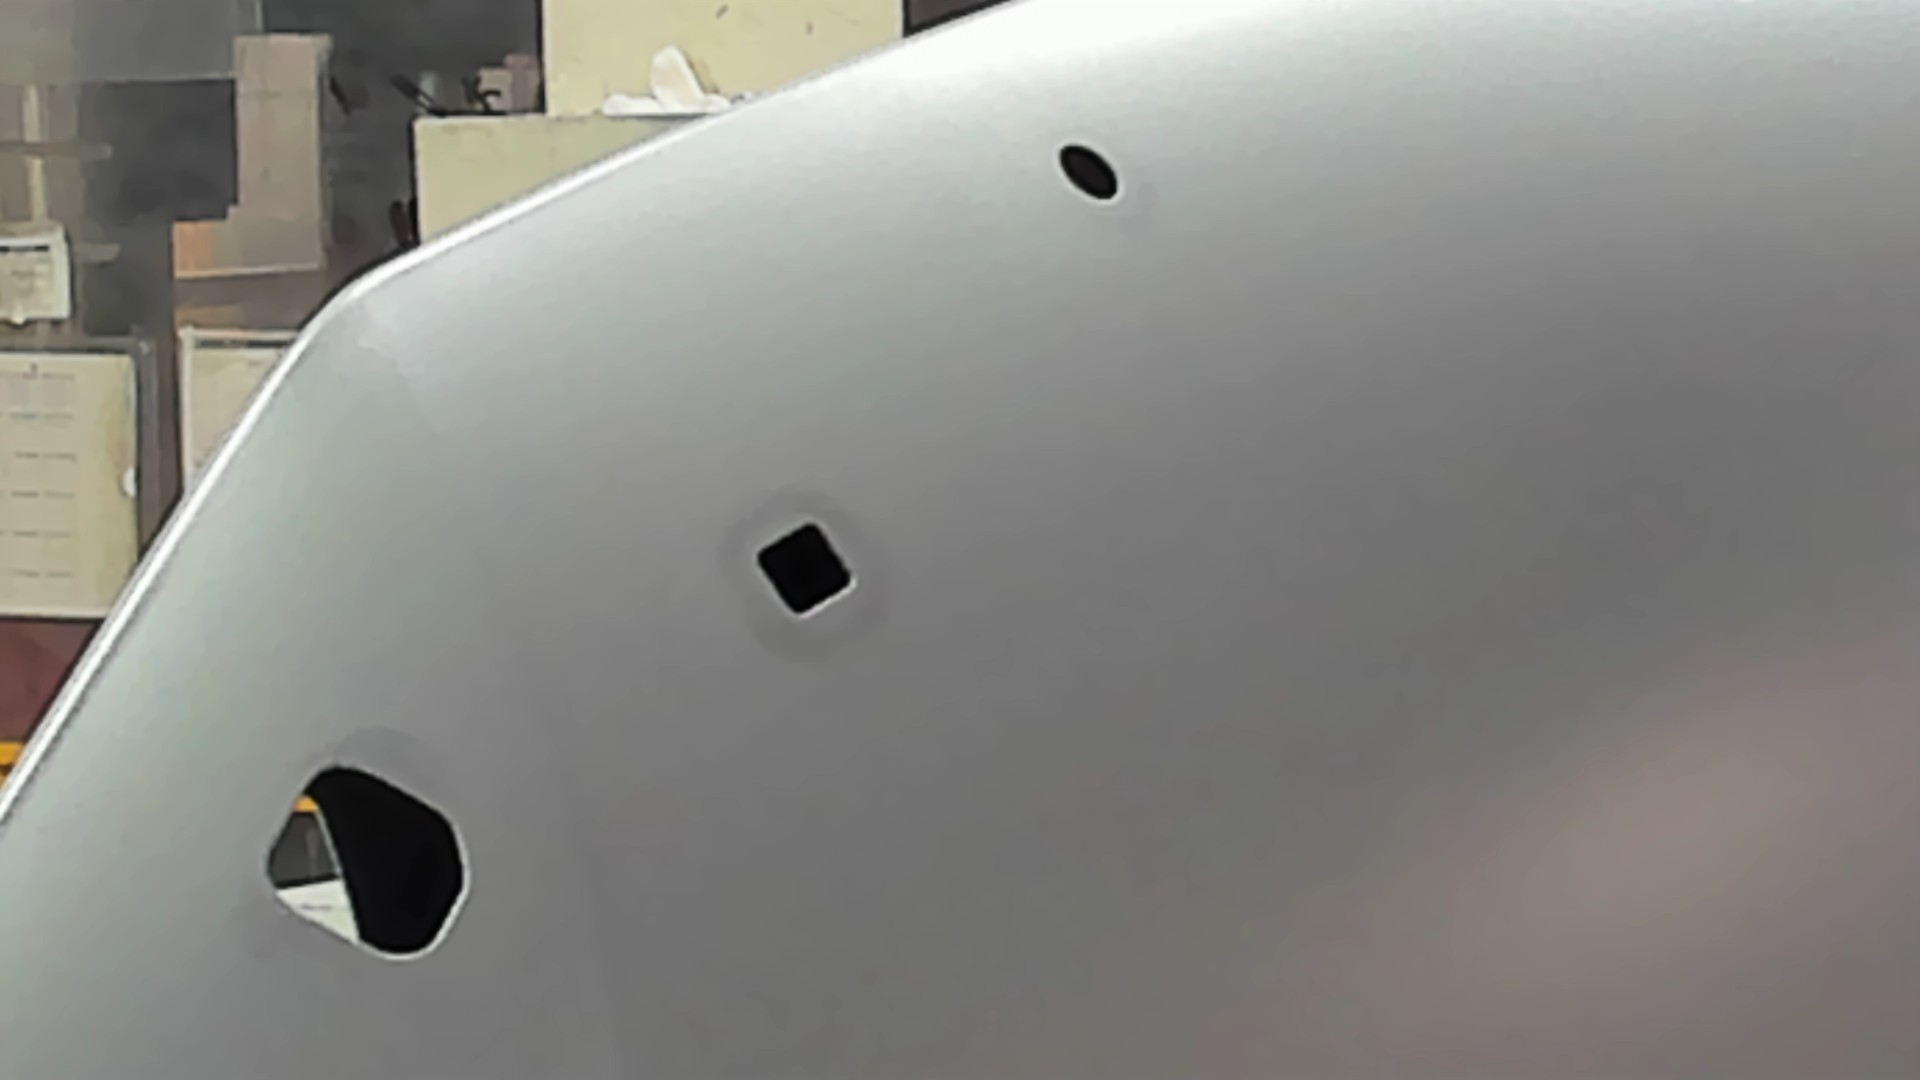chico: (1051, 138, 1124, 206)
grande: (257, 753, 477, 967)
mediano: (748, 510, 861, 626)
